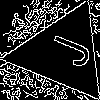J: (38, 28, 95, 70)
